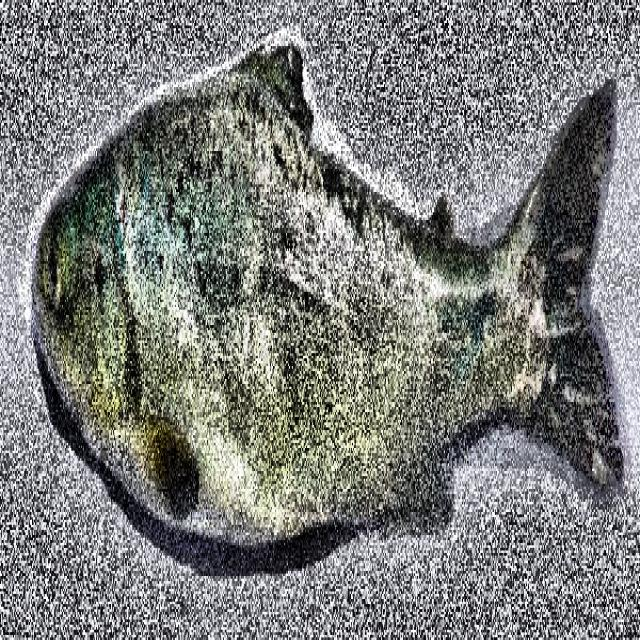mild_red: (118, 49, 621, 538)
